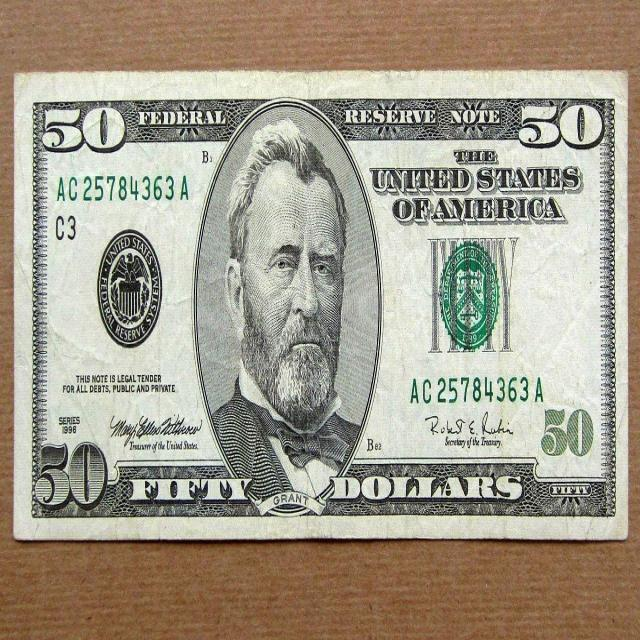50-Front: (15, 74, 629, 540)
